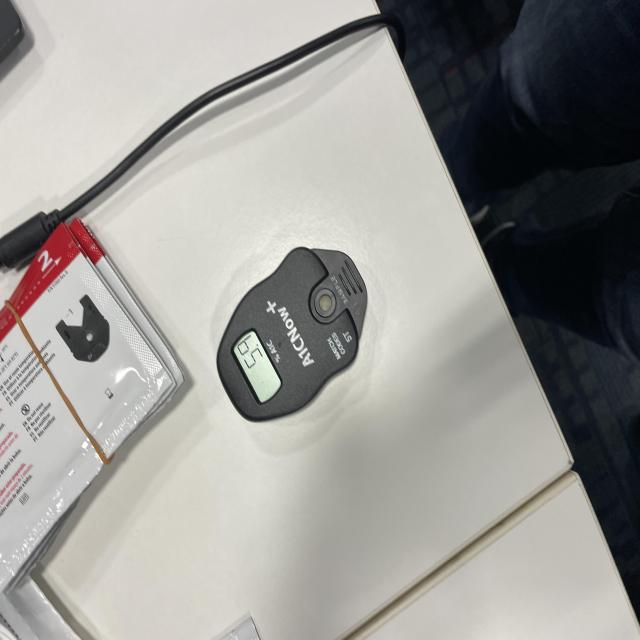hba1c: (214, 247, 369, 427)
